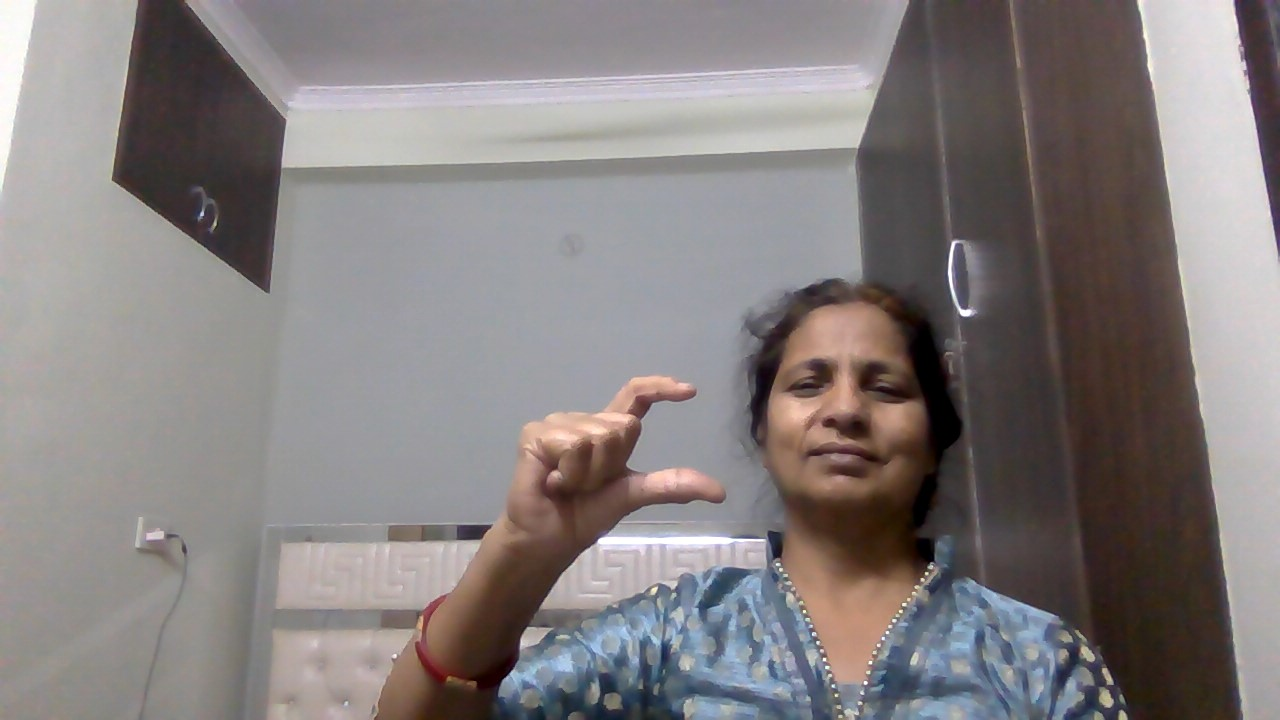Paste: (503, 365, 731, 588)
